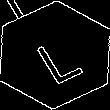L_NW: (26, 26, 84, 84)
